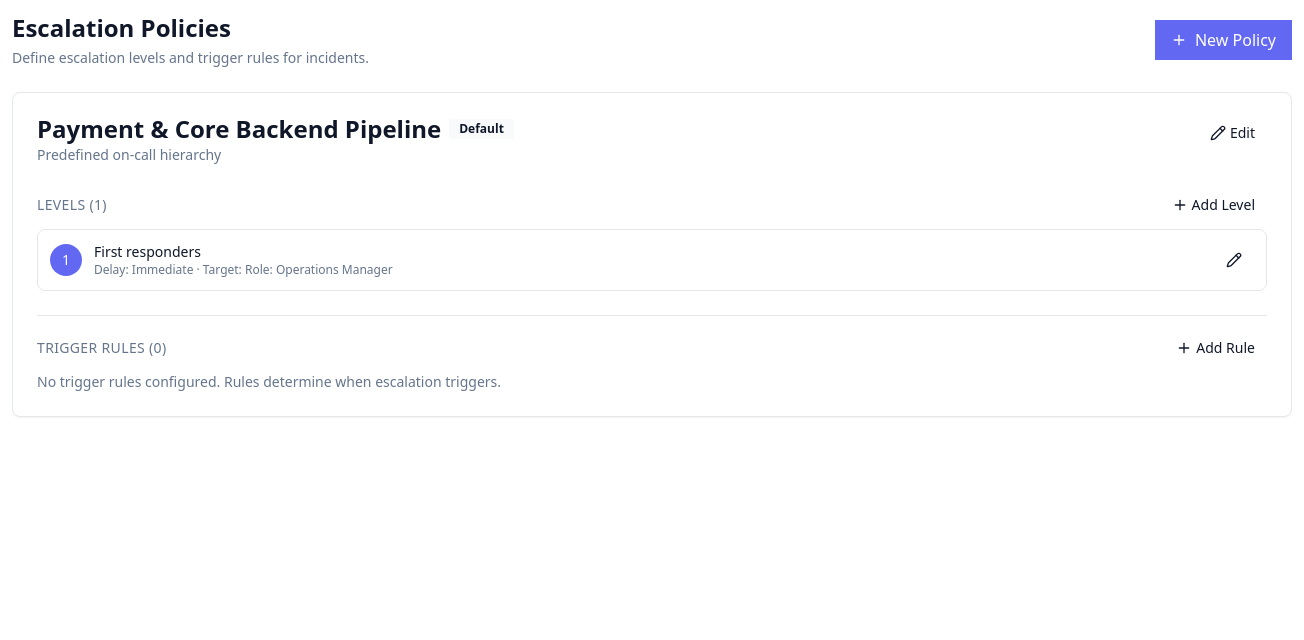
Test: EscalationPoliciesPage — Escalation Level Role Assignment UX › renders a role selection dropdown (not a text input) when Target is Role
# Click "Add Level"
Click the button "Add Level": point(1213, 205) [1160,189,1267,221]
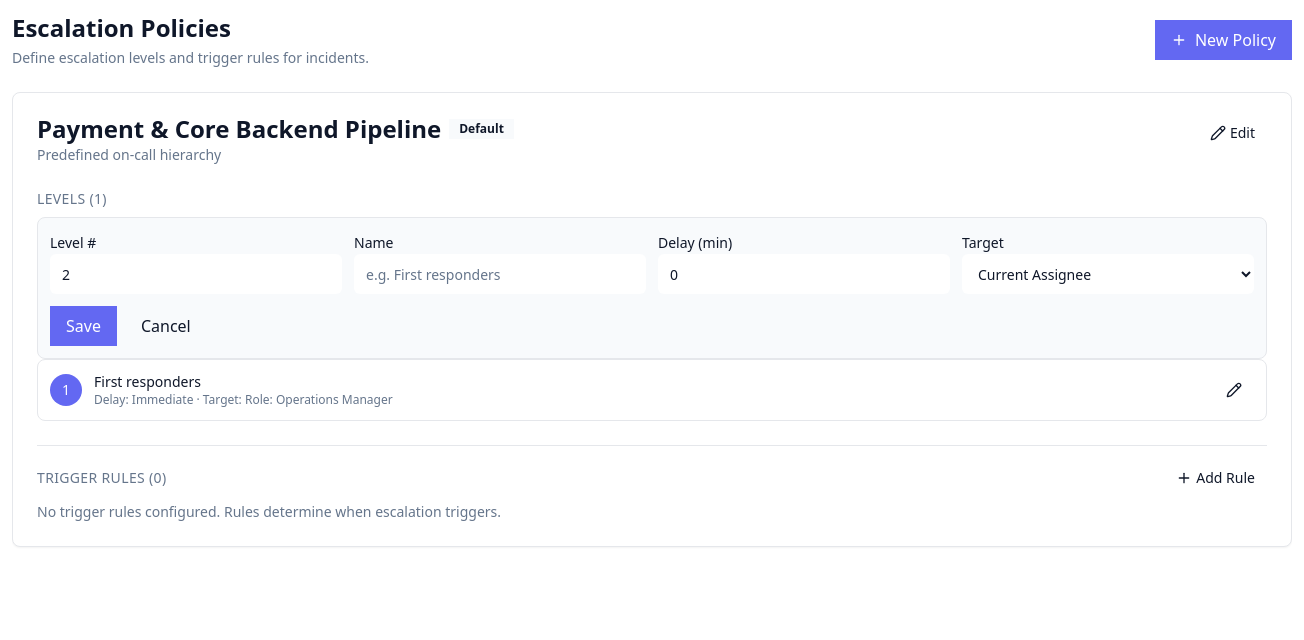
# Change Target to "Role"
Select "Role" in the dropdown labelled "Target": point(1108, 274) [962,254,1254,294]
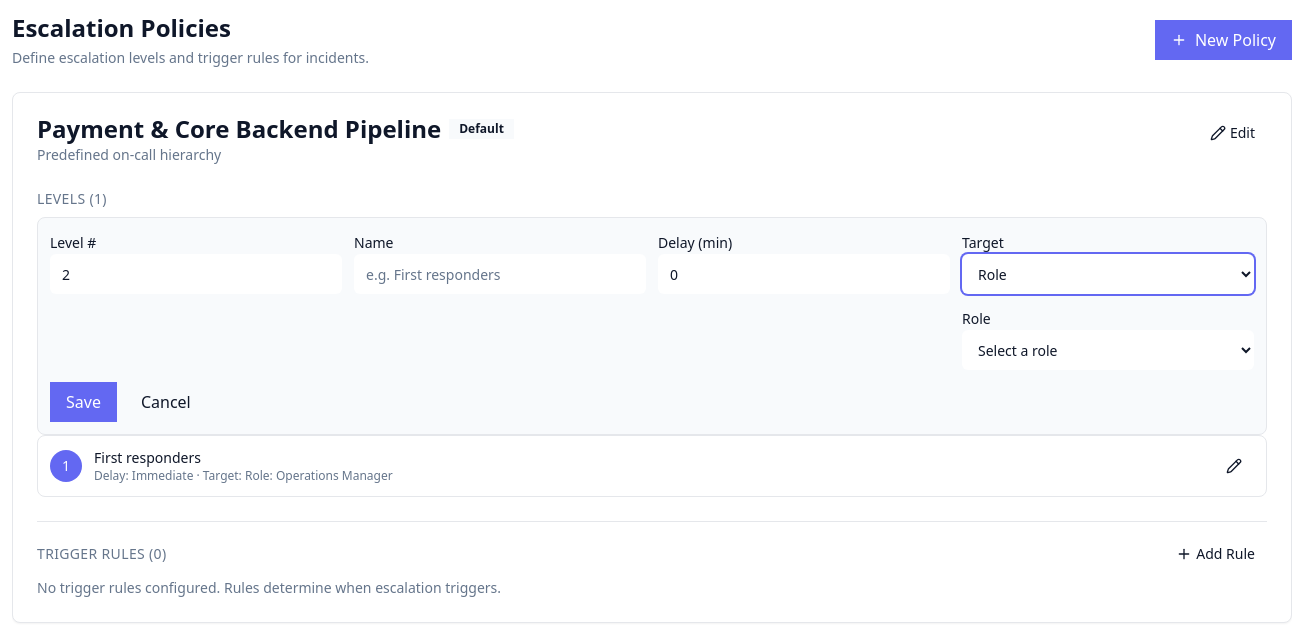
expect the dropdown labelled "Role" is shown: met, box [962,330,1254,370]
